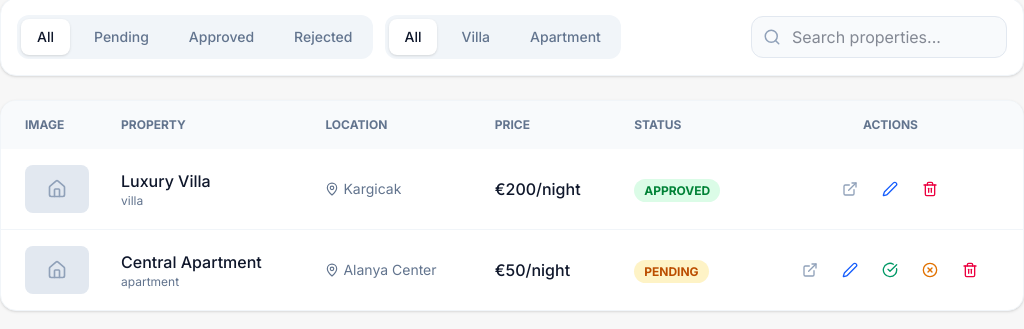
PropertiesPage › renders no properties message when none match filter
Expected: the text "Luxury Villa" is shown, x1=121 y1=171 x2=211 y2=191
Click the button "Rejected". click: (323, 37)
box: x1=278 y1=19 x2=368 y2=55
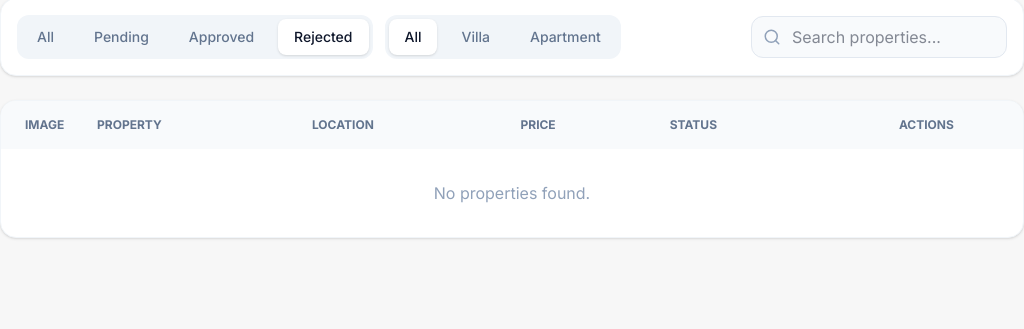
Result: the text "No properties found." is shown at x1=1 y1=149 x2=1023 y2=237
